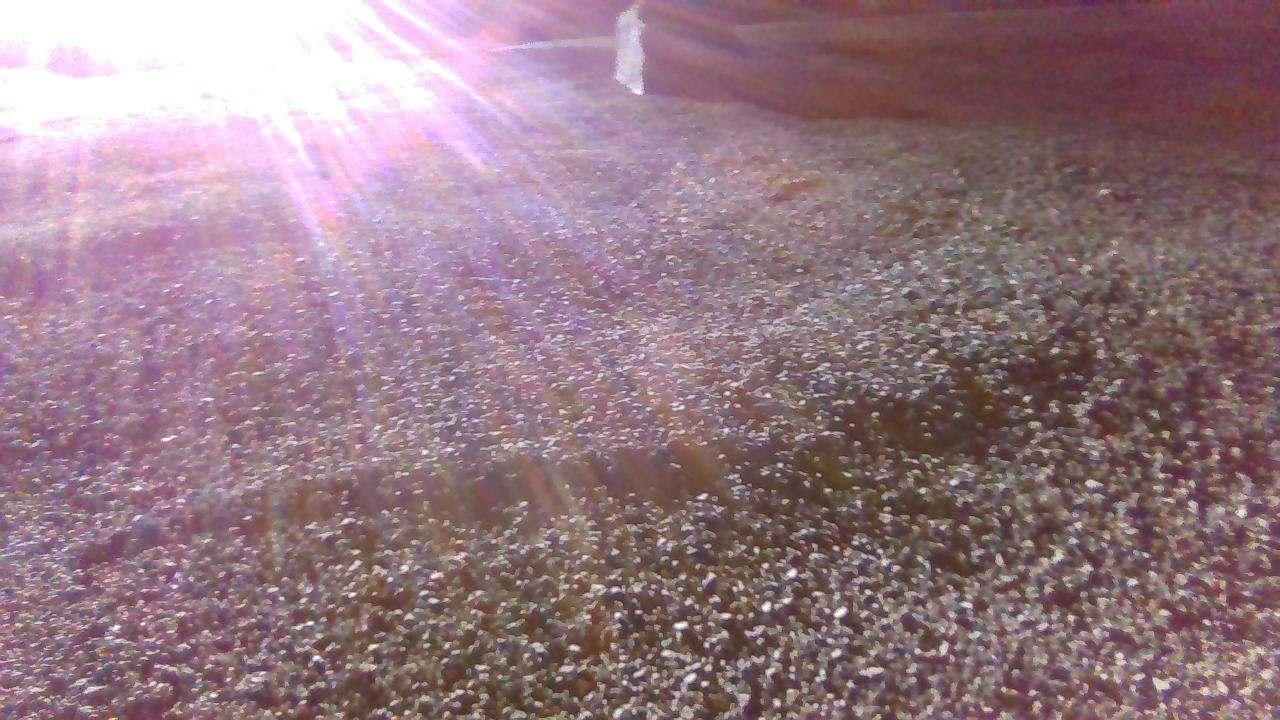rock: (618, 5, 742, 96)
